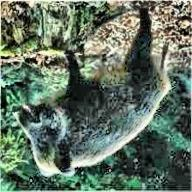boar: (12, 9, 168, 182)
